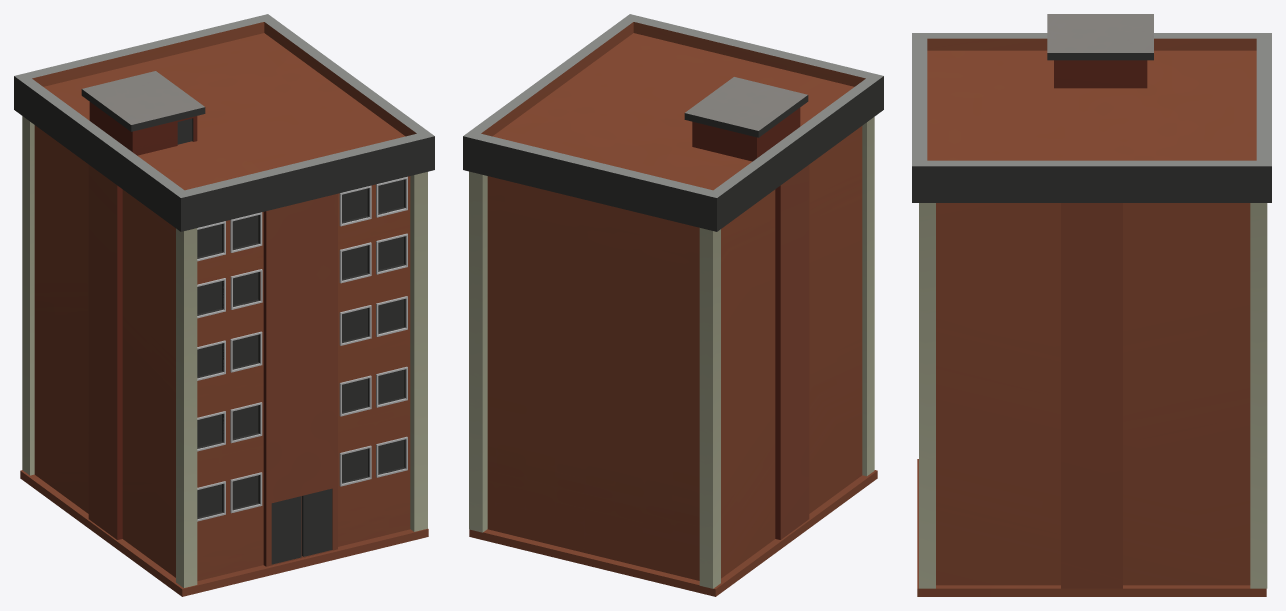
Rendered from home4.fbx.
3 renders of one model, left to right at view 1: azimuth 30°, elevation 25°; view 2: azimuth 150°, elevation 25°; view 3: azimuth 270°, elevation 25°, orthographic. The views are drawn at different scales.
Parts seen in each view (by area): view 1: Cube.124; view 2: Cube.124; view 3: Cube.124.
Boxes of the visible parts, box(x1,y1,x2,y2) form: Cube.124: box(14, 14, 434, 596); Cube.124: box(463, 14, 883, 596); Cube.124: box(912, 14, 1271, 596).
Size of the model in its own units: 17.94 by 28.72 by 20.43.
